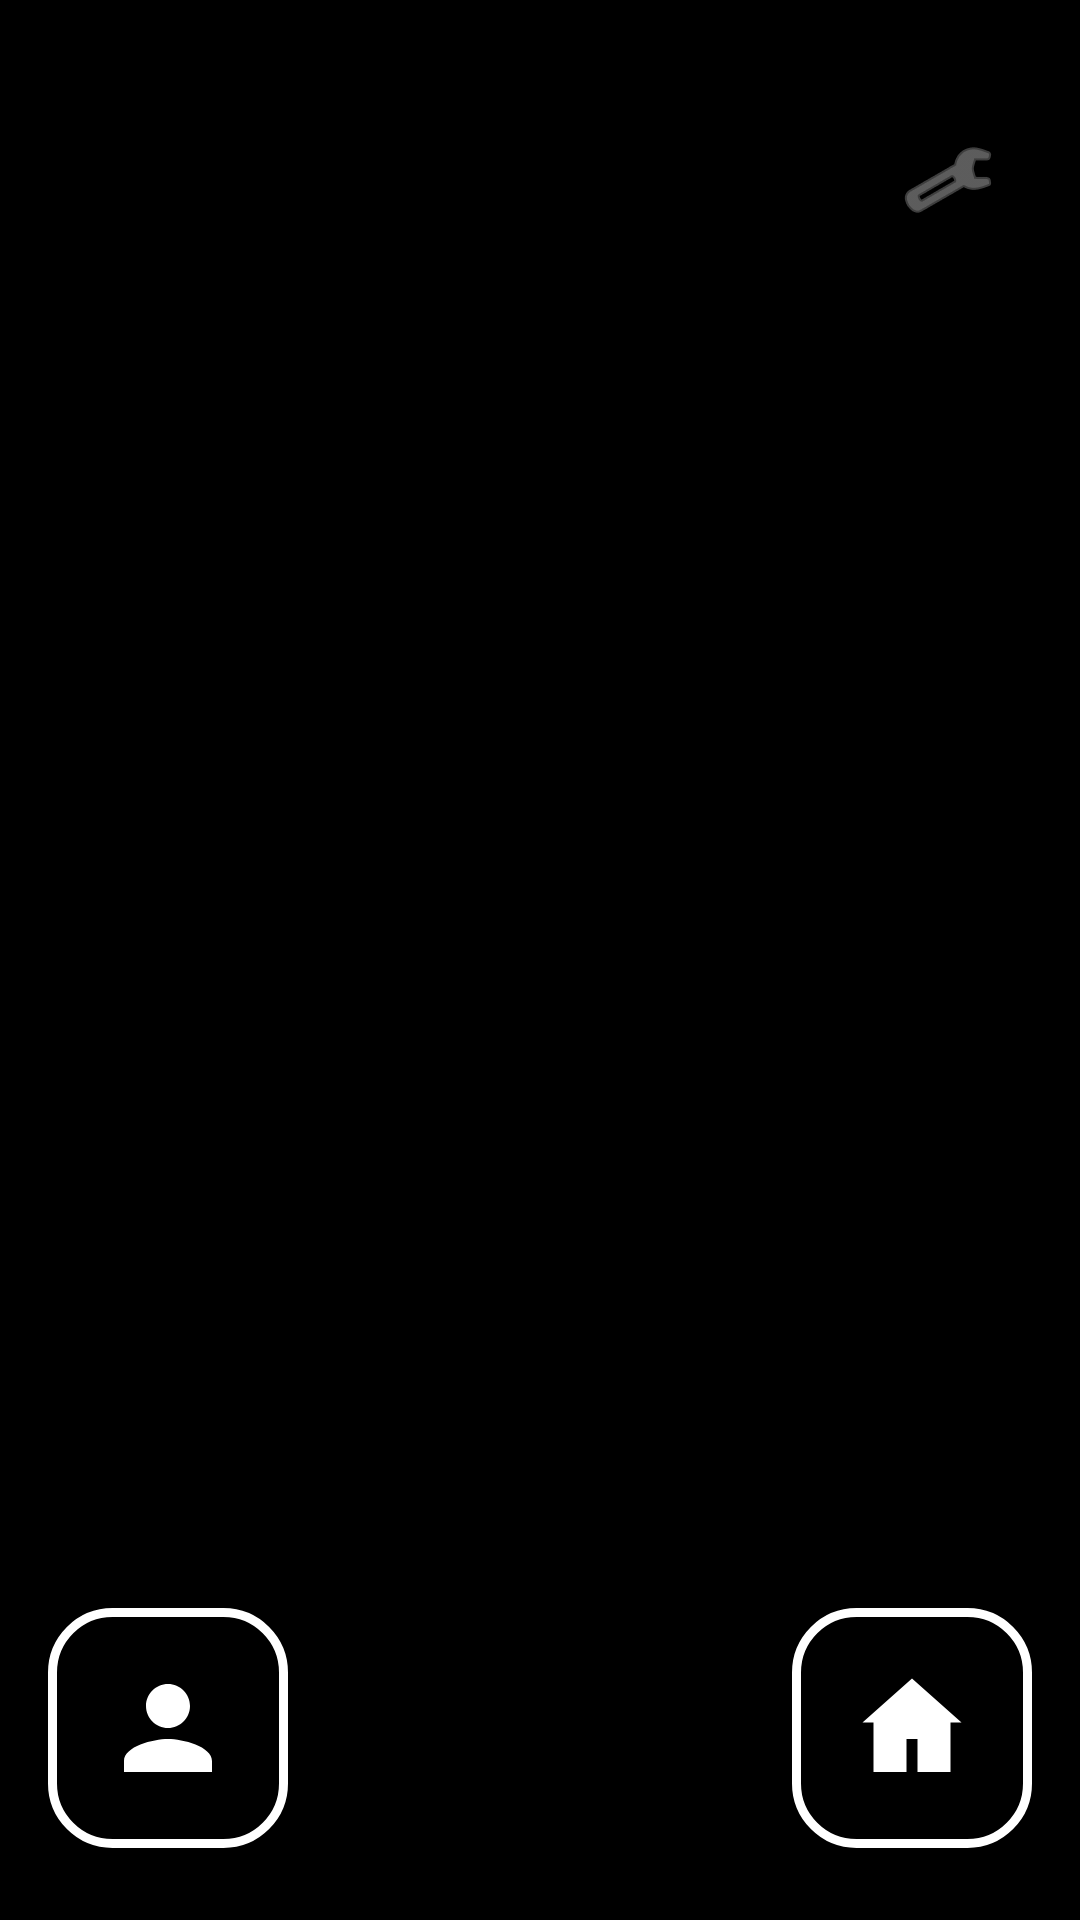

Icons on this 1080x1920 Android screen, each with the point to tap as (x=x, y=y):
Home: (x=912, y=1728)
